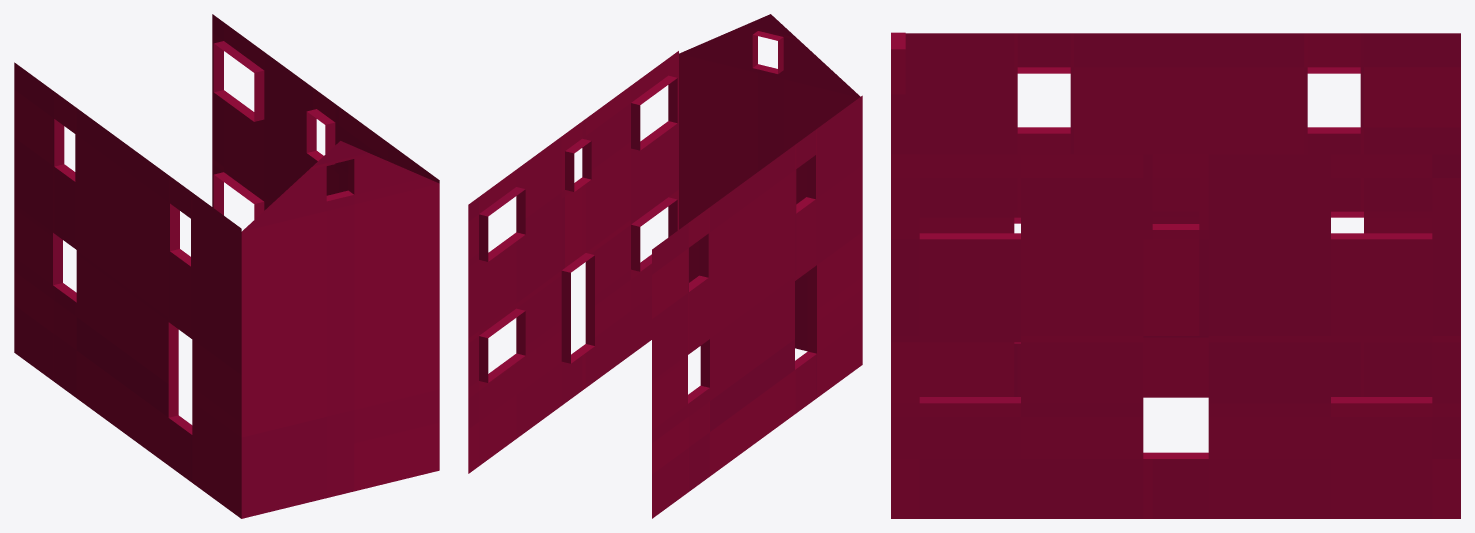
File: SM_Bld_146_Masonry.glb
3 renders of one model, left to right at view 1: azimuth 30°, elevation 25°; view 2: azimuth 150°, elevation 25°; view 3: azimuth 270°, elevation 25°, orthographic. The views are drawn at different scales.
Parts seen in each view (by area): view 1: SM_Bld_146_Masonry; view 2: SM_Bld_146_Masonry; view 3: SM_Bld_146_Masonry.
Boxes of the visible parts, x1,y1,x2,y2 form: SM_Bld_146_Masonry: [14, 14, 439, 518]; SM_Bld_146_Masonry: [468, 14, 862, 518]; SM_Bld_146_Masonry: [891, 32, 1460, 518].
Size of the model in its own units: 4.33 by 7.4 by 8.6.
